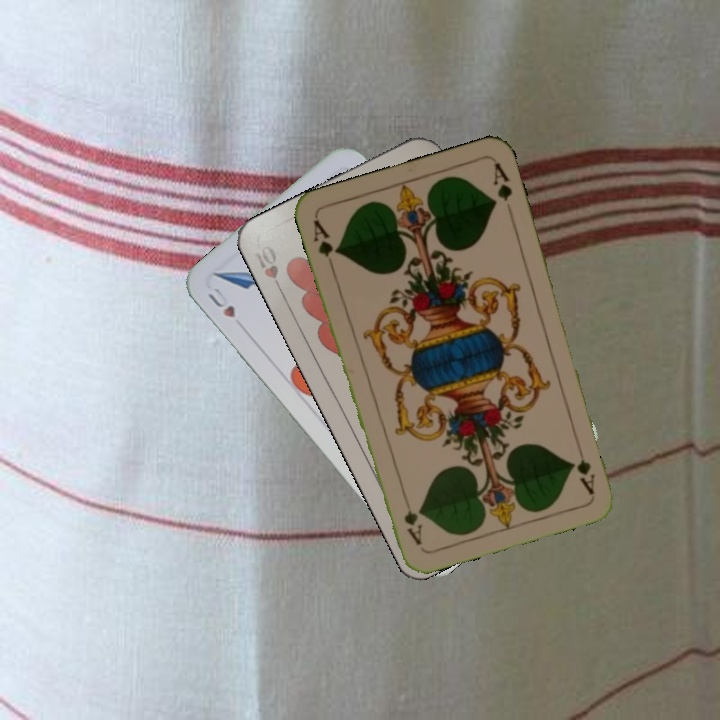GA: (309, 215, 341, 272), (572, 438, 598, 497)
H10: (250, 241, 287, 297)
HU: (203, 283, 238, 321)
